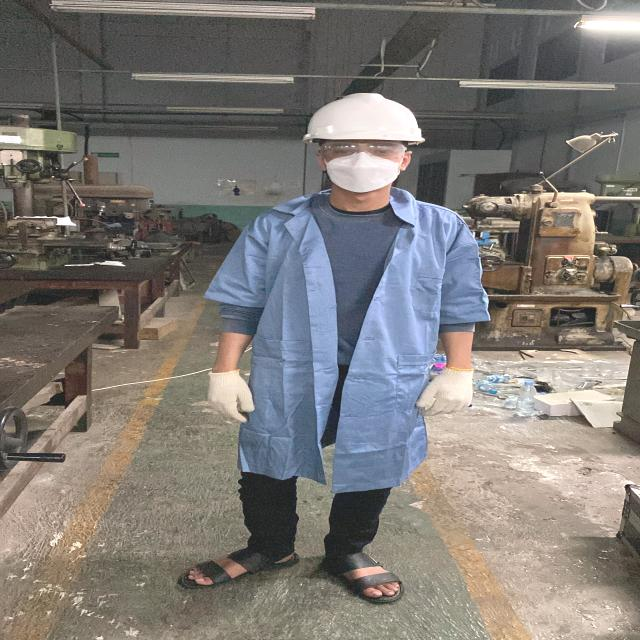face_mask: (317, 140, 409, 190)
glasses: (310, 140, 414, 160)
hand_glove: (194, 366, 263, 424), (412, 366, 480, 418)
head_helmet: (296, 91, 432, 148)
